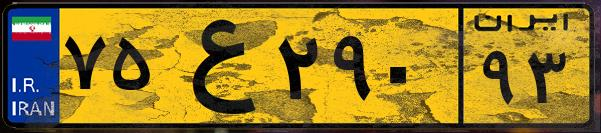0: (385, 28, 445, 110)
2: (270, 28, 330, 110)
3: (525, 38, 570, 115)
5: (110, 28, 158, 98)
7: (57, 26, 110, 100)
9: (330, 28, 385, 110), (475, 38, 525, 113)
ع: (158, 12, 270, 120)
